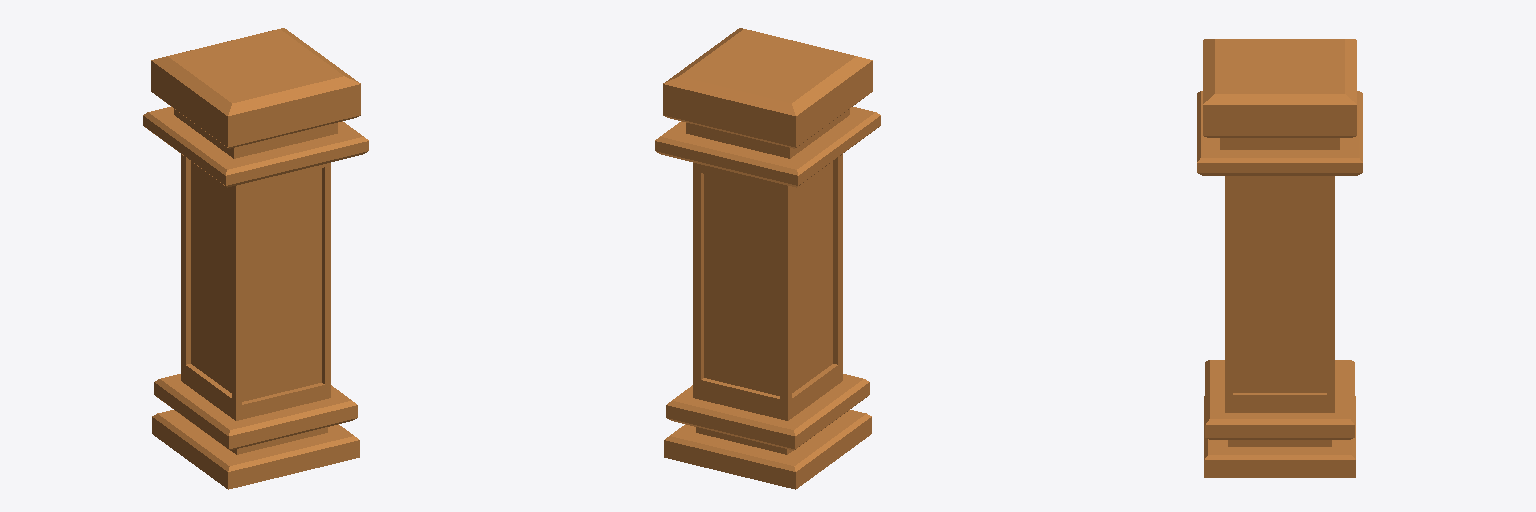
File: Pillar.obj
3 renders of one model, left to right at view 1: azimuth 30°, elevation 25°; view 2: azimuth 150°, elevation 25°; view 3: azimuth 270°, elevation 25°, orthographic.
Parts seen in each view (by area): view 1: Low_Poly; view 2: Low_Poly; view 3: Low_Poly.
Part boxes in pixels (x1,y1,x2,y2): Low_Poly: (143, 28, 368, 489); Low_Poly: (655, 28, 880, 489); Low_Poly: (1197, 39, 1362, 477).
Bounding box in the file's own units: 0.6945 × 1.75 × 0.6945.